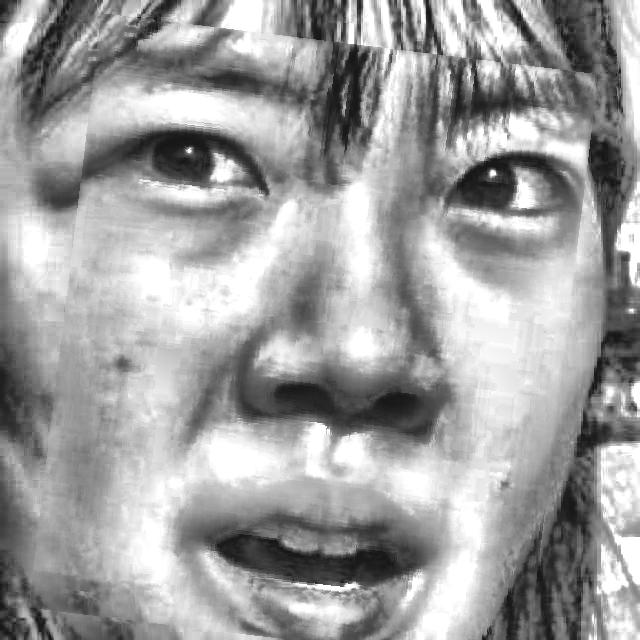angry: (45, 27, 581, 640)
